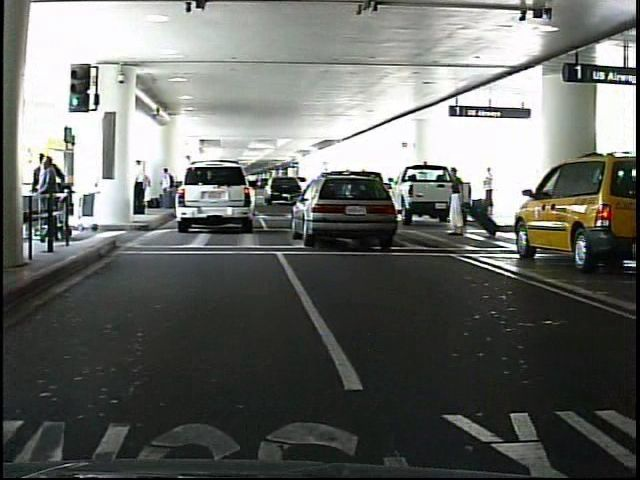person: (450, 165, 472, 238), (138, 157, 151, 217), (486, 165, 500, 218), (165, 166, 178, 210)
